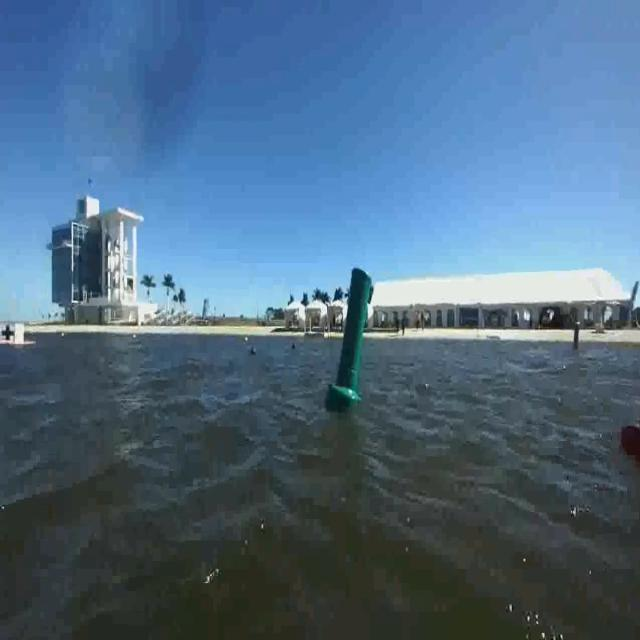green-column-buoy: (331, 267, 374, 409)
